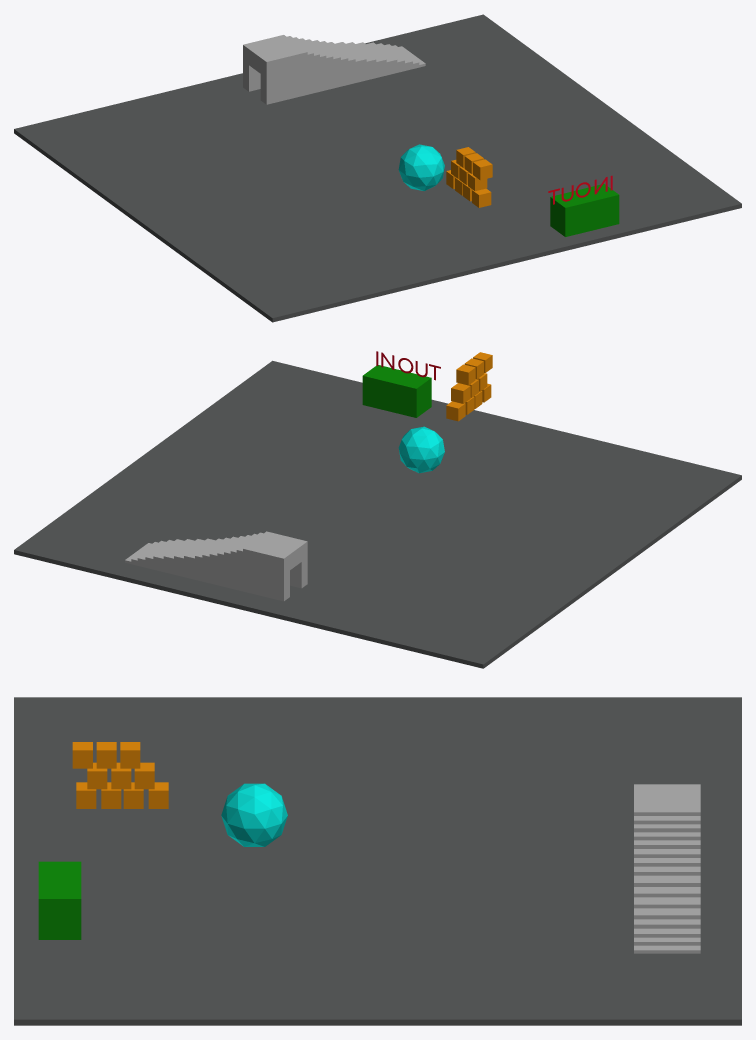
The model's file is test-world.glb.
The picture shows the model from 3 angles, top to bottom: view 1: azimuth 30°, elevation 25°; view 2: azimuth 150°, elevation 25°; view 3: azimuth 270°, elevation 25°; orthographic projection. The views are drawn at different scales.
Parts seen in each view (by area): view 1: mesh.002, mesh.001, event.001, obj.011; view 2: mesh.002, mesh.001, event.001, obj.011; view 3: mesh.002, mesh.001, event.001, obj.011, obj.008, obj.009, obj.010, obj.003.
Part boxes in pixels (x1,y1,x2,y2): mesh.002: [14, 14, 741, 322]; mesh.001: [243, 35, 425, 104]; event.001: [550, 184, 619, 236]; obj.011: [398, 144, 444, 191]; mesh.002: [14, 360, 741, 668]; mesh.001: [125, 531, 307, 601]; event.001: [362, 365, 431, 417]; obj.011: [398, 426, 444, 473]; mesh.002: [14, 697, 741, 1025]; mesh.001: [634, 784, 700, 953]; event.001: [38, 861, 81, 939]; obj.011: [221, 783, 287, 846]; obj.008: [96, 742, 116, 768]; obj.009: [72, 742, 92, 768]; obj.010: [120, 742, 140, 768]; obj.003: [134, 762, 154, 789].
Size of the model in its own units: 22.88 by 3.91 by 21.82.
